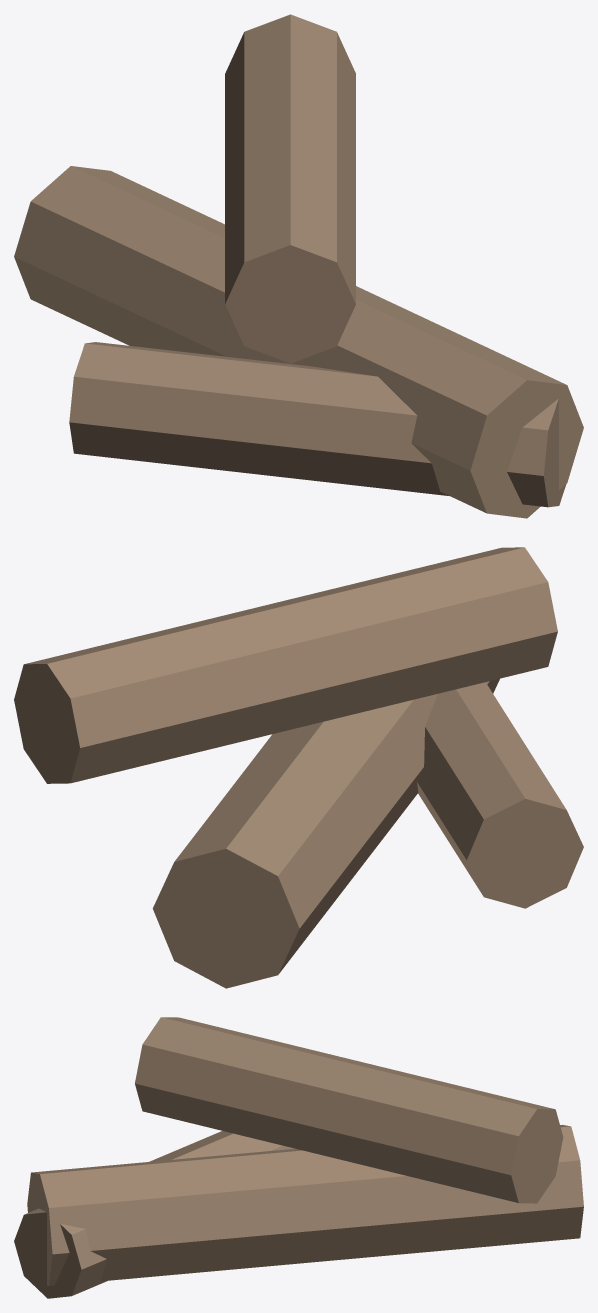
Rendered from log_pile.glb.
3 renders of one model, top to bottom at view 1: azimuth 30°, elevation 25°; view 2: azimuth 150°, elevation 25°; view 3: azimuth 270°, elevation 25°, orthographic. The views are drawn at different scales.
Visible parts, largest first — view 1: log_01, log_03, log_02; view 2: log_02, log_01, log_03; view 3: log_01, log_02, log_03.
Part boxes in pixels (x1,y1,x2,y2): log_01: (14,166,583,518); log_03: (69,342,566,507); log_02: (225,14,355,363); log_02: (14,547,557,783); log_01: (152,678,499,988); log_03: (417,682,583,908); log_01: (27,1124,583,1285); log_02: (135,1017,563,1203); log_03: (14,1131,294,1298).
Bounding box in the file's own units: 1.8 × 1.04 × 2.62.
